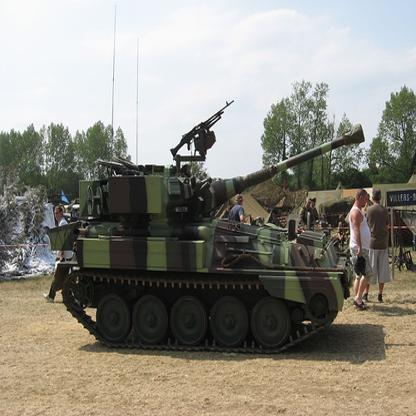Tank: (45, 97, 394, 363)
